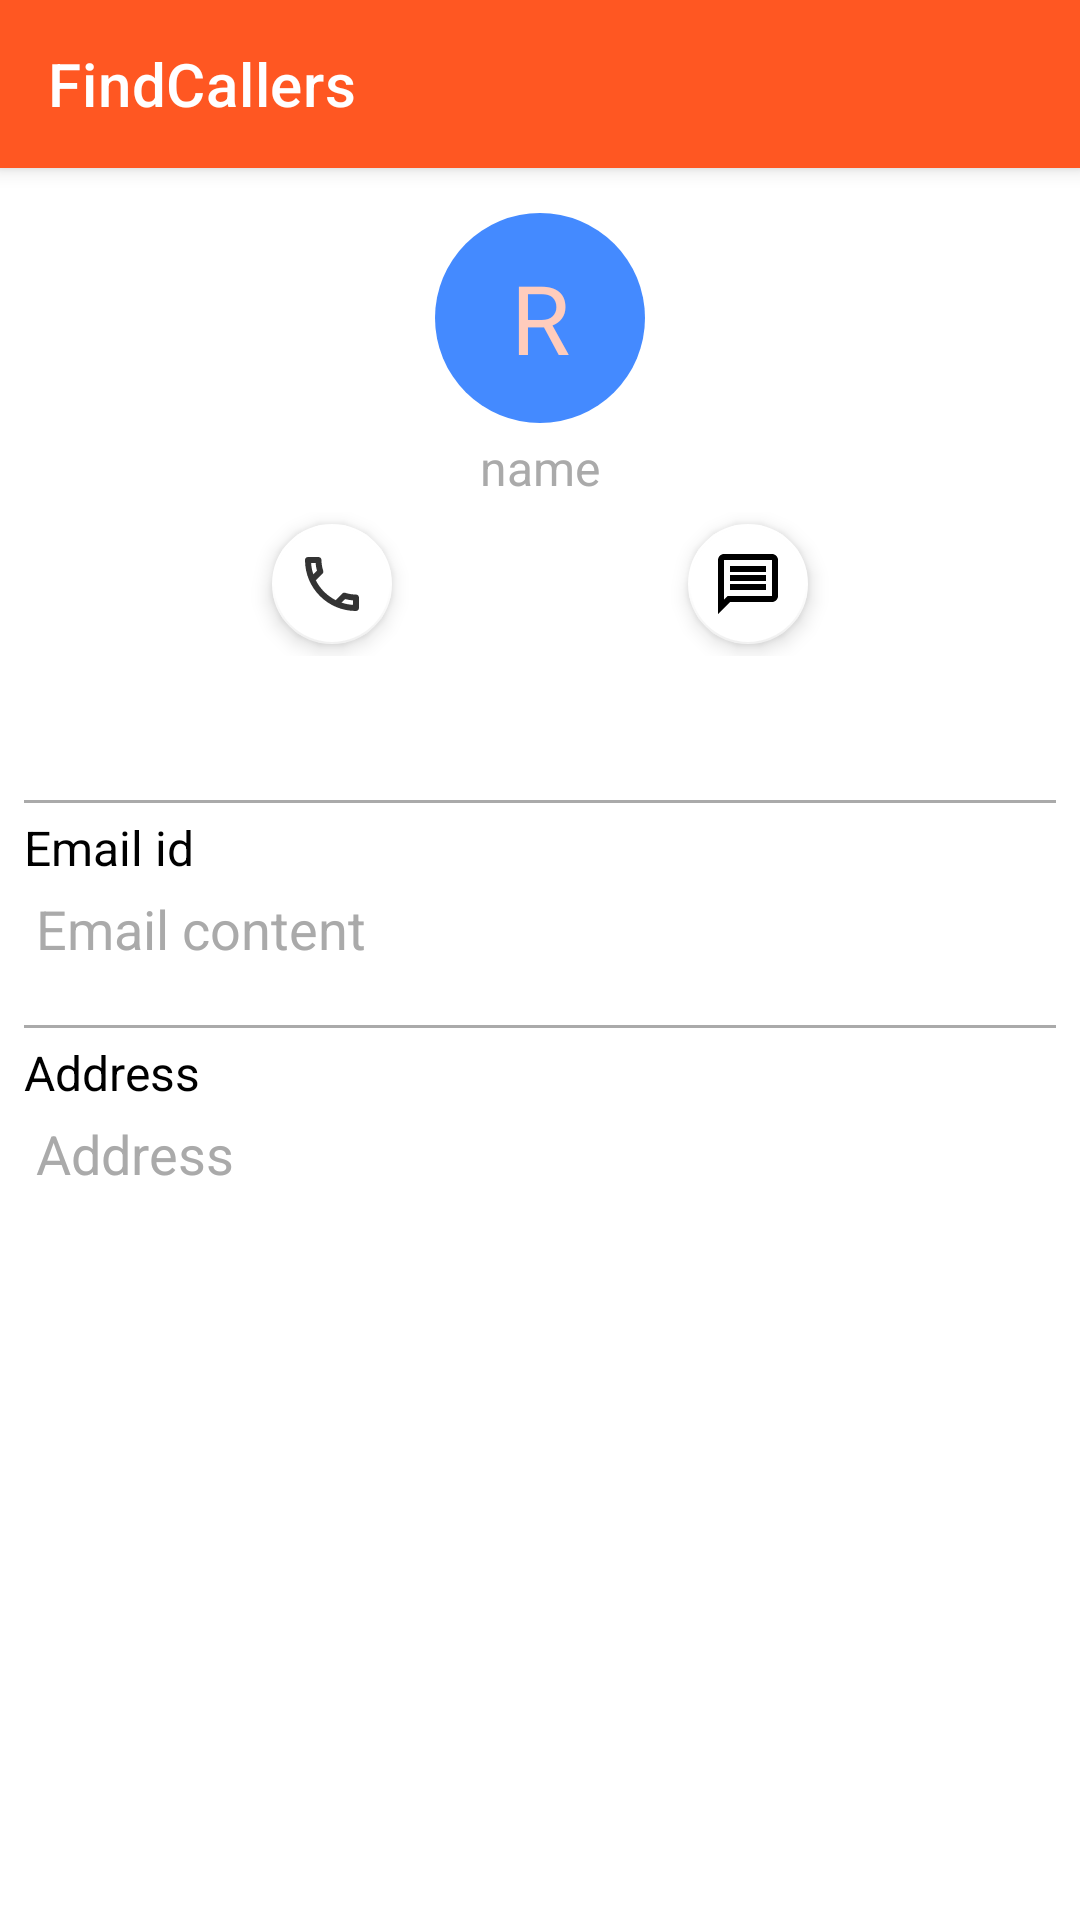

Screen size 1080*1920. Icon name, then its box in pixels as bbox=[x1, y1, x2, y2]:
call: bbox=[271, 557, 391, 647]
message: bbox=[696, 554, 809, 647]
